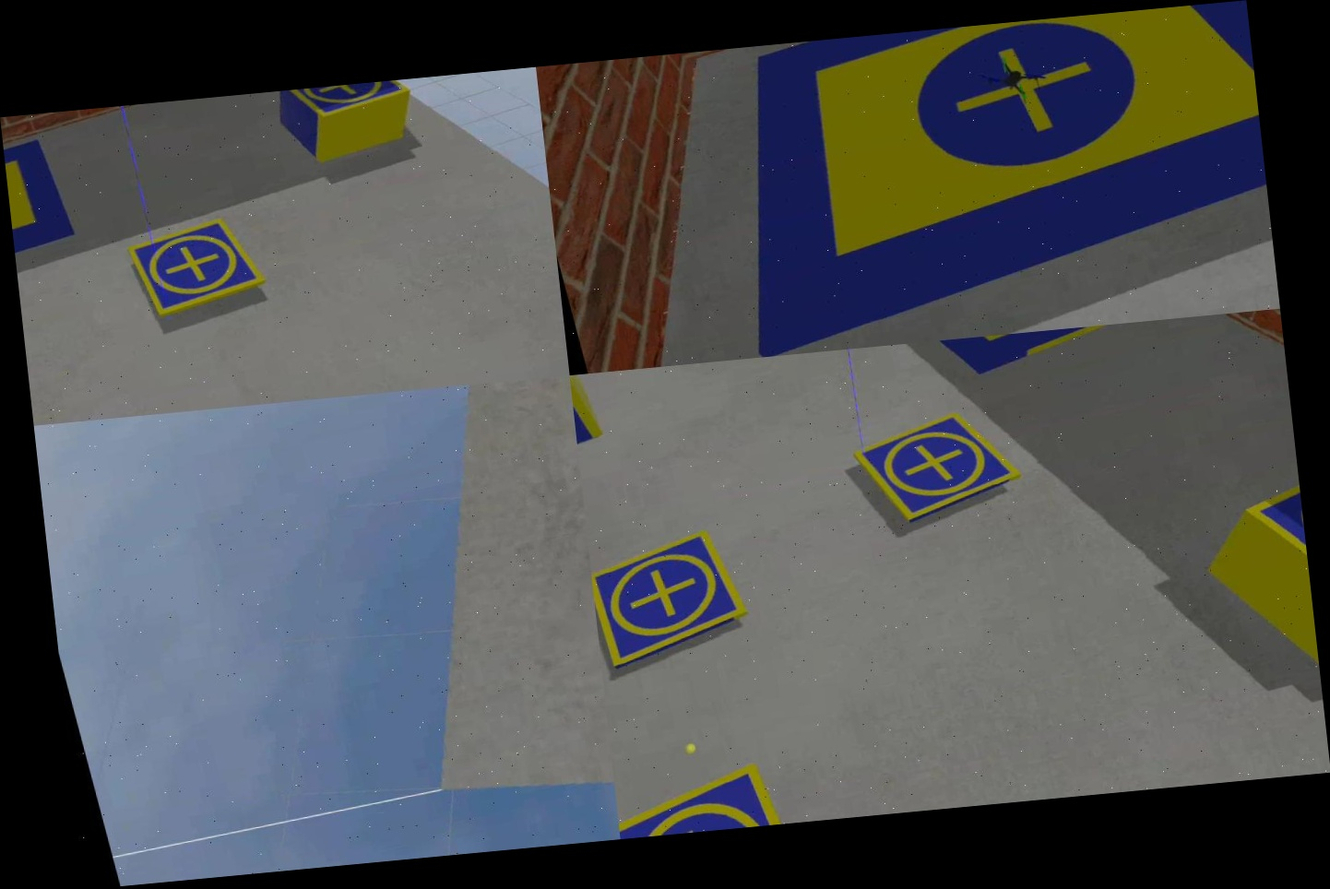large_base: (678, 0, 1279, 359), (885, 318, 1179, 395), (3, 137, 86, 296)
small_base: (849, 401, 1030, 537), (588, 524, 756, 670), (613, 754, 818, 838), (1233, 452, 1315, 646), (130, 217, 272, 324), (280, 78, 415, 130)
